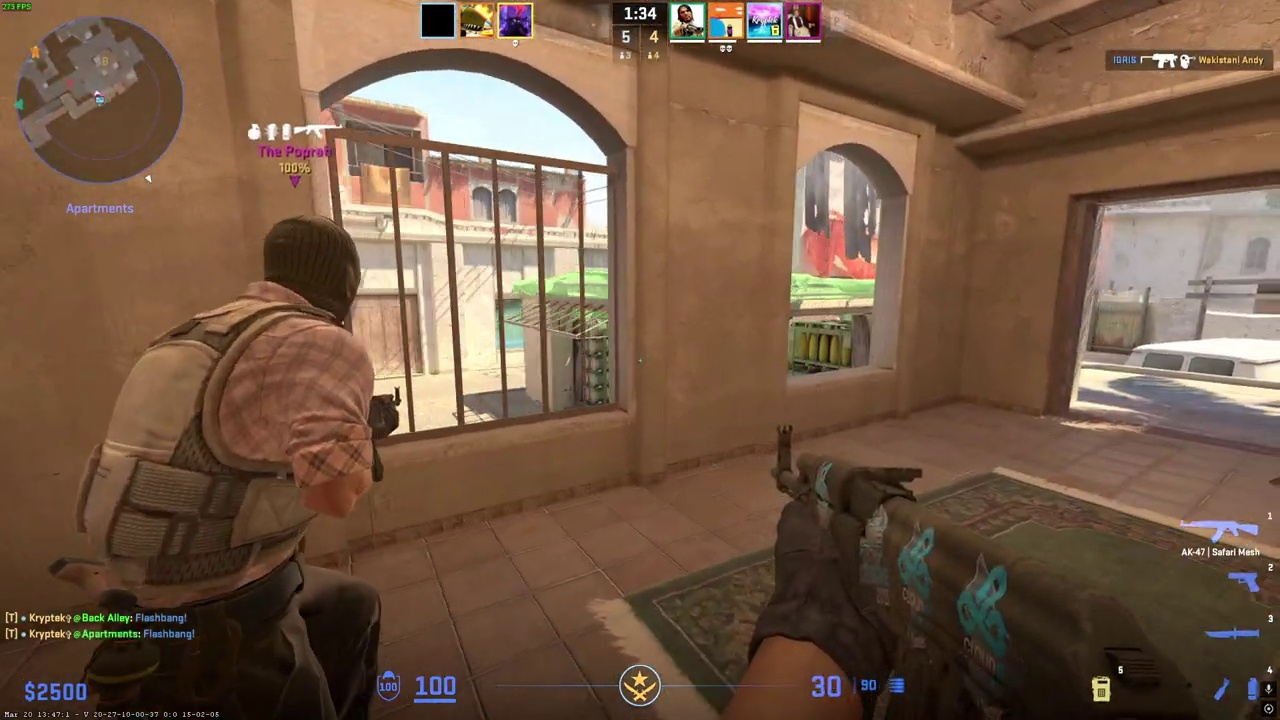Terrorist: (69, 214, 397, 720)
